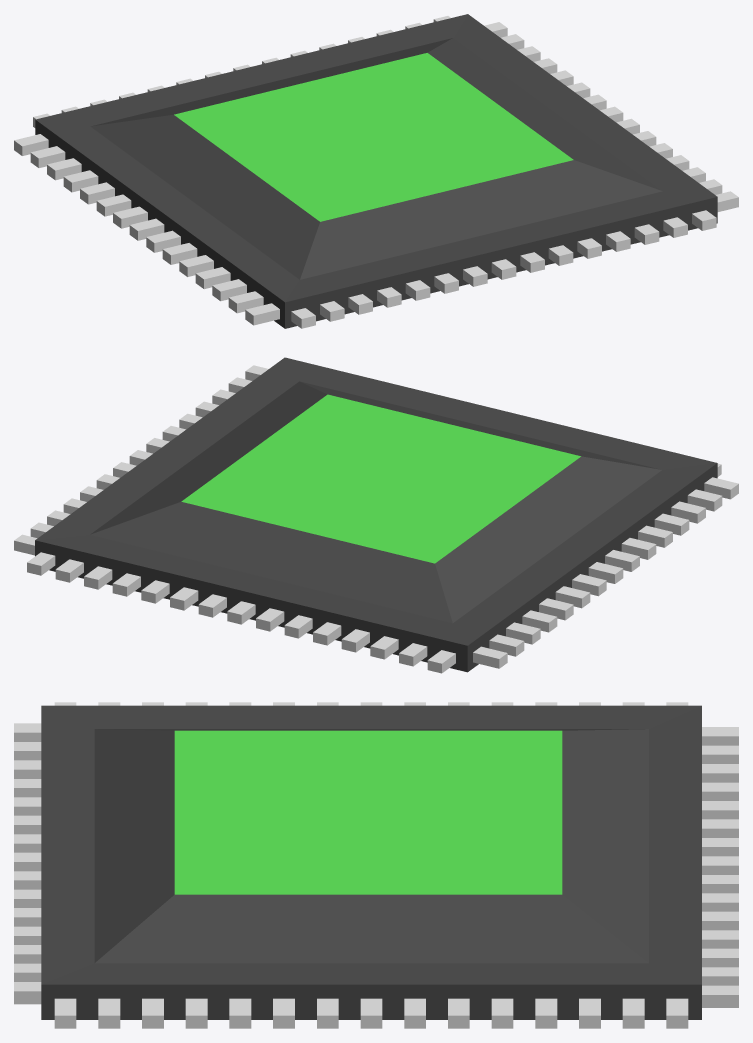
File: chip.fbx
3 renders of one model, top to bottom at view 1: azimuth 30°, elevation 25°; view 2: azimuth 150°, elevation 25°; view 3: azimuth 270°, elevation 25°, orthographic. The views are drawn at different scales.
Parts seen in each view (by area): view 1: Cube, Cube.001, Cube.003, Cube.002, Cube.004; view 2: Cube, Cube.001, Cube.004, Cube.002; view 3: Cube, Cube.002, Cube.004, Cube.003, Cube.001.
Boxes of the visible parts, x1,y1,x2,y2 form: Cube: (35, 14, 717, 328); Cube.001: (14, 134, 279, 325); Cube.003: (291, 210, 716, 328); Cube.002: (484, 22, 738, 211); Cube.004: (33, 16, 450, 127); Cube: (35, 357, 717, 672); Cube.001: (473, 477, 738, 668); Cube.004: (27, 552, 455, 673); Cube.002: (14, 365, 268, 555); Cube: (41, 705, 701, 1019); Cube.002: (54, 998, 688, 1028); Cube.004: (702, 727, 738, 1007); Cube.003: (14, 723, 41, 1004); Cube.001: (54, 702, 688, 705).
Size of the model in its own units: 1122 by 109 by 1098.
